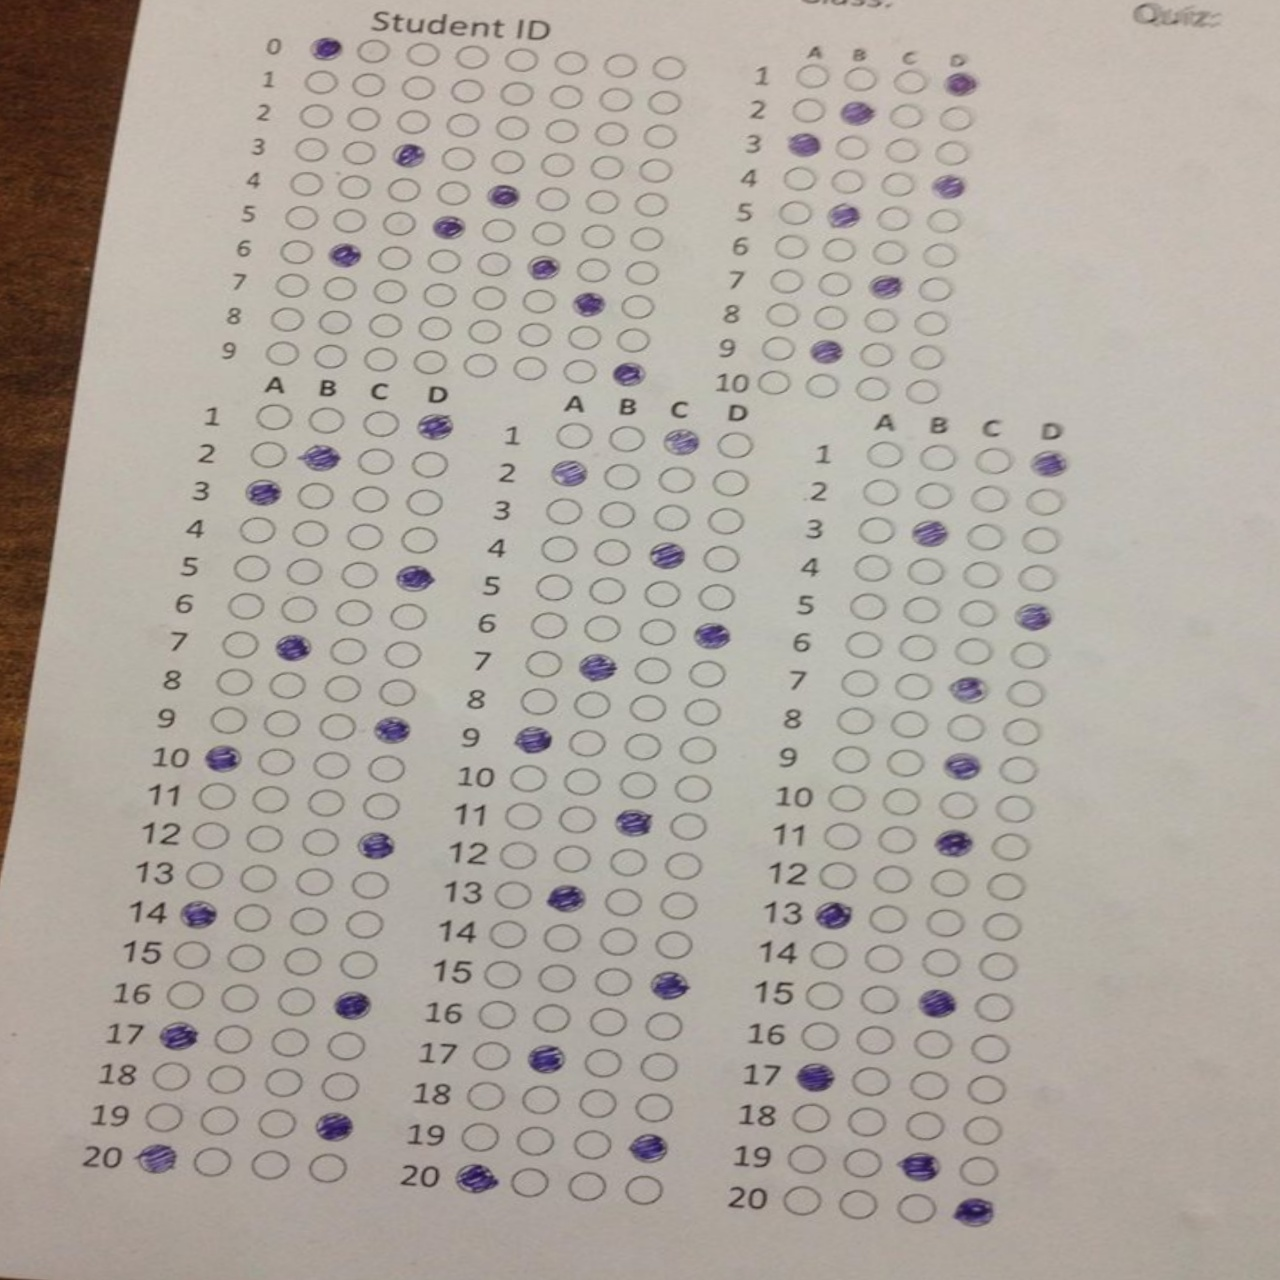not-c: (655, 927, 697, 962), (450, 40, 495, 73), (714, 429, 758, 462), (570, 1128, 614, 1160), (857, 983, 903, 1015), (712, 467, 754, 501), (306, 788, 350, 819), (635, 1089, 673, 1126), (648, 50, 689, 84), (365, 755, 410, 785), (591, 966, 636, 996), (481, 958, 523, 990), (781, 1145, 828, 1175), (531, 571, 574, 602), (961, 520, 1005, 552), (913, 1030, 956, 1062), (610, 421, 648, 456), (259, 1107, 299, 1141), (563, 1172, 608, 1201), (546, 81, 588, 113), (350, 483, 393, 515), (267, 668, 307, 701), (352, 870, 392, 903), (220, 981, 260, 1014), (823, 821, 863, 853), (620, 258, 665, 287), (253, 401, 294, 433), (345, 908, 386, 940), (282, 947, 324, 979), (199, 1104, 240, 1136), (361, 409, 403, 440), (252, 1150, 294, 1180), (595, 498, 638, 529), (551, 844, 593, 874), (905, 557, 947, 587), (813, 863, 859, 891), (930, 867, 972, 898), (988, 872, 1030, 903), (925, 907, 967, 938), (975, 952, 1017, 982), (973, 993, 1015, 1023), (969, 1036, 1012, 1067), (287, 519, 331, 549), (312, 751, 355, 781), (150, 1062, 193, 1091), (853, 516, 897, 545), (866, 903, 910, 932), (903, 1114, 946, 1143), (403, 39, 443, 70), (309, 1153, 349, 1185), (590, 1007, 629, 1039), (297, 828, 341, 856), (319, 712, 360, 742), (164, 981, 205, 1012), (145, 1101, 186, 1131), (915, 442, 956, 472), (971, 484, 1012, 515), (938, 789, 979, 819), (261, 1068, 304, 1097), (552, 418, 594, 448), (644, 1012, 686, 1041), (1024, 486, 1067, 516), (207, 1062, 244, 1096), (542, 497, 587, 524), (967, 1074, 1005, 1107), (333, 598, 372, 629), (316, 1073, 360, 1101), (896, 633, 939, 661), (645, 87, 685, 117), (583, 189, 622, 219), (291, 907, 331, 938), (670, 810, 710, 840), (999, 754, 1039, 784), (495, 79, 536, 108), (542, 115, 583, 144), (399, 526, 440, 556), (322, 675, 363, 704), (210, 706, 251, 735), (193, 1146, 234, 1176), (658, 890, 699, 919), (982, 911, 1023, 940), (358, 792, 402, 819), (467, 1080, 503, 1112), (627, 224, 669, 252), (184, 862, 226, 890), (340, 948, 377, 980), (277, 989, 319, 1017), (666, 850, 703, 881), (517, 1125, 554, 1157), (248, 440, 287, 470), (218, 629, 257, 660), (239, 863, 278, 893), (297, 865, 335, 896), (707, 505, 745, 536), (490, 918, 529, 948), (474, 1041, 512, 1071), (973, 445, 1012, 476), (829, 782, 867, 812), (961, 1156, 1000, 1186), (492, 113, 532, 142), (631, 189, 670, 218), (258, 749, 298, 778), (703, 546, 743, 576), (1016, 563, 1056, 592), (993, 833, 1033, 863), (801, 1023, 840, 1053), (910, 1070, 949, 1099), (964, 1117, 1003, 1146), (297, 482, 338, 510), (340, 561, 381, 590), (699, 583, 734, 615), (493, 880, 535, 908), (958, 599, 999, 627), (285, 556, 321, 587), (777, 1187, 822, 1213), (553, 47, 591, 77), (602, 49, 640, 80), (302, 67, 340, 97), (272, 1027, 309, 1057), (329, 1030, 367, 1061), (610, 847, 647, 878), (524, 1085, 561, 1116), (1003, 719, 1041, 749), (858, 1024, 896, 1055), (840, 1187, 878, 1218), (587, 578, 629, 605), (561, 768, 604, 795), (542, 924, 584, 951), (624, 1177, 666, 1204), (355, 38, 394, 67), (215, 668, 253, 697), (584, 613, 622, 642), (627, 692, 666, 721), (685, 699, 723, 728), (886, 101, 925, 130), (271, 271, 311, 299), (278, 595, 318, 624), (382, 641, 422, 669), (252, 785, 292, 813), (679, 736, 719, 764), (881, 136, 921, 164), (953, 636, 993, 665), (864, 942, 904, 971), (510, 1169, 553, 1194), (785, 98, 829, 124), (594, 537, 629, 568), (240, 516, 277, 546), (226, 592, 263, 622), (845, 1148, 881, 1178), (377, 210, 418, 237), (171, 942, 212, 969), (656, 467, 697, 493), (642, 581, 683, 608), (535, 1005, 576, 1032), (942, 715, 983, 742), (884, 750, 925, 777), (994, 796, 1035, 823), (806, 941, 847, 968), (535, 183, 572, 212), (411, 451, 449, 481), (247, 825, 285, 855), (640, 617, 678, 646), (585, 1048, 622, 1077), (350, 72, 389, 100), (591, 120, 629, 148), (280, 206, 322, 232), (346, 524, 384, 552), (376, 679, 415, 707), (234, 903, 273, 931), (601, 464, 644, 490), (653, 506, 692, 535), (566, 731, 608, 757), (501, 804, 543, 830), (849, 557, 891, 583), (890, 710, 928, 738), (576, 256, 615, 282), (263, 709, 302, 736), (198, 782, 238, 809), (903, 379, 942, 406), (840, 670, 880, 697), (873, 864, 913, 891), (849, 1109, 888, 1136), (597, 86, 633, 115), (406, 488, 442, 517), (227, 942, 264, 972), (215, 1023, 251, 1053), (869, 237, 910, 263), (502, 46, 539, 74), (450, 77, 488, 105), (298, 102, 335, 130), (394, 107, 431, 135), (443, 110, 481, 138), (338, 172, 375, 200), (307, 406, 345, 434), (389, 602, 427, 631), (898, 1194, 935, 1223), (370, 277, 409, 304), (422, 280, 461, 307), (605, 890, 644, 917), (477, 1002, 516, 1029), (640, 1053, 679, 1080), (579, 1089, 618, 1116), (921, 949, 960, 976), (331, 636, 366, 666), (423, 248, 463, 274), (520, 689, 560, 715), (835, 709, 874, 735), (522, 287, 558, 315), (193, 821, 230, 849), (601, 927, 638, 955), (866, 440, 903, 468), (1010, 640, 1047, 668), (883, 788, 919, 816), (880, 826, 917, 855), (441, 147, 478, 173), (332, 207, 369, 234), (479, 215, 517, 241), (470, 284, 508, 311), (463, 1124, 501, 1151), (843, 63, 880, 90), (964, 561, 1001, 588), (686, 662, 727, 687), (543, 537, 581, 563), (624, 734, 662, 760), (560, 806, 599, 832), (499, 844, 538, 870), (901, 595, 940, 621), (678, 775, 712, 804), (542, 964, 576, 993), (638, 156, 673, 184), (363, 346, 399, 374), (620, 771, 655, 799), (779, 198, 815, 226), (1024, 526, 1060, 554), (808, 981, 843, 1009), (853, 1067, 888, 1095), (263, 342, 302, 367), (913, 483, 953, 508), (842, 633, 881, 658), (343, 138, 380, 165), (491, 149, 527, 176), (316, 308, 353, 335), (518, 320, 554, 347), (358, 447, 394, 474), (532, 613, 568, 640), (573, 692, 610, 719), (914, 311, 951, 338), (804, 372, 840, 399), (832, 747, 869, 774), (345, 105, 382, 131), (435, 179, 472, 205), (477, 250, 515, 275), (461, 352, 498, 377), (510, 765, 547, 791), (797, 63, 835, 89), (857, 342, 894, 368), (856, 376, 893, 402), (234, 554, 268, 583), (896, 675, 934, 700), (399, 74, 434, 101), (531, 220, 566, 247), (322, 274, 358, 301), (566, 325, 601, 352), (908, 343, 944, 370), (865, 477, 900, 504), (560, 359, 597, 384), (896, 72, 932, 97), (833, 136, 870, 162), (926, 209, 962, 234), (920, 244, 956, 270), (293, 136, 326, 164), (942, 105, 975, 134), (768, 268, 805, 293), (388, 176, 422, 203), (794, 1107, 828, 1133), (275, 240, 316, 263), (540, 151, 576, 177), (580, 223, 615, 248), (268, 307, 304, 333), (468, 319, 503, 345), (823, 237, 858, 263), (1008, 680, 1043, 706), (377, 247, 414, 272), (418, 316, 455, 341), (617, 328, 653, 353), (636, 658, 673, 682), (918, 278, 954, 302), (860, 308, 897, 333), (290, 170, 321, 198), (846, 595, 886, 618), (527, 651, 560, 678), (368, 312, 402, 338), (933, 141, 968, 165), (775, 233, 810, 258), (761, 336, 796, 361), (411, 352, 450, 374), (782, 169, 818, 192), (314, 345, 349, 368), (830, 169, 865, 192), (876, 207, 911, 231), (764, 302, 799, 326), (641, 124, 678, 147), (621, 294, 654, 319), (815, 305, 847, 329), (511, 359, 546, 381), (590, 155, 622, 178), (821, 271, 850, 297), (758, 369, 789, 394), (880, 173, 915, 195)
taken-c: (894, 1148, 944, 1187), (350, 828, 402, 864), (949, 1194, 1001, 1231), (452, 1159, 502, 1197), (907, 515, 954, 552), (132, 1141, 181, 1177), (912, 986, 961, 1020), (311, 1107, 355, 1144), (511, 721, 557, 757), (542, 881, 590, 915), (157, 1017, 202, 1054), (938, 750, 987, 783), (392, 560, 438, 594), (930, 826, 976, 860), (794, 1058, 837, 1095), (628, 1130, 673, 1165), (239, 474, 285, 508), (200, 740, 246, 774), (646, 538, 692, 572), (329, 988, 373, 1023), (300, 440, 345, 474), (613, 805, 658, 839), (783, 127, 828, 161), (411, 411, 458, 443), (526, 1042, 568, 1077), (659, 425, 702, 459), (372, 713, 416, 745), (547, 456, 591, 489), (1027, 448, 1071, 479), (567, 290, 612, 320), (648, 969, 693, 1000), (808, 334, 847, 368), (272, 632, 314, 663), (812, 899, 855, 931), (946, 674, 989, 704), (1010, 601, 1053, 632), (692, 620, 731, 652), (864, 273, 908, 301), (824, 199, 865, 230), (610, 359, 647, 392), (307, 33, 346, 64), (576, 653, 619, 681), (179, 898, 217, 930), (836, 100, 879, 127), (930, 172, 969, 200), (524, 253, 561, 282), (389, 139, 425, 169), (430, 213, 467, 241), (942, 70, 980, 97), (327, 240, 362, 268), (484, 184, 520, 210)
